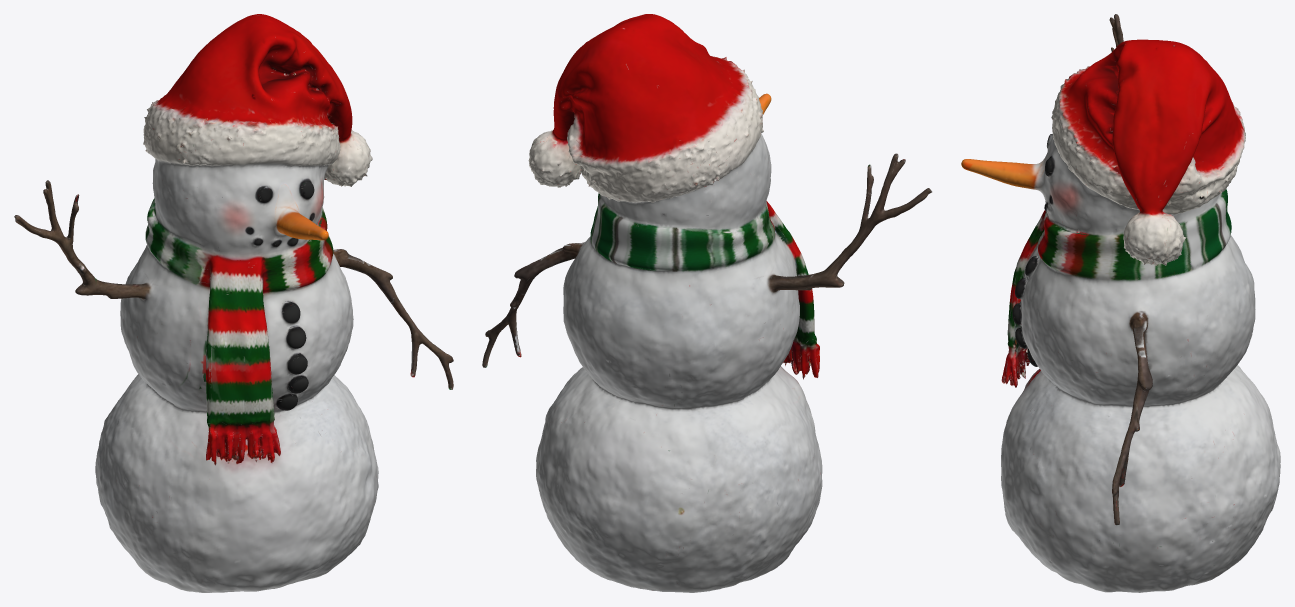
The model's file is Meshy_AI_Cheerful_Snowman__1221053046_texture.fbx.
The picture shows the model from 3 angles, left to right: view 1: azimuth 30°, elevation 25°; view 2: azimuth 150°, elevation 25°; view 3: azimuth 270°, elevation 25°; orthographic projection.
Parts seen in each view (by area): view 1: Mesh_0.002; view 2: Mesh_0.002; view 3: Mesh_0.002.
Part boxes in pixels (x1,y1,x2,y2): Mesh_0.002: (14, 14, 453, 592); Mesh_0.002: (482, 14, 932, 592); Mesh_0.002: (961, 14, 1280, 592).
Bounding box in the file's own units: 170 × 191 × 105.
Materials: 1 (1 with a texture image).
